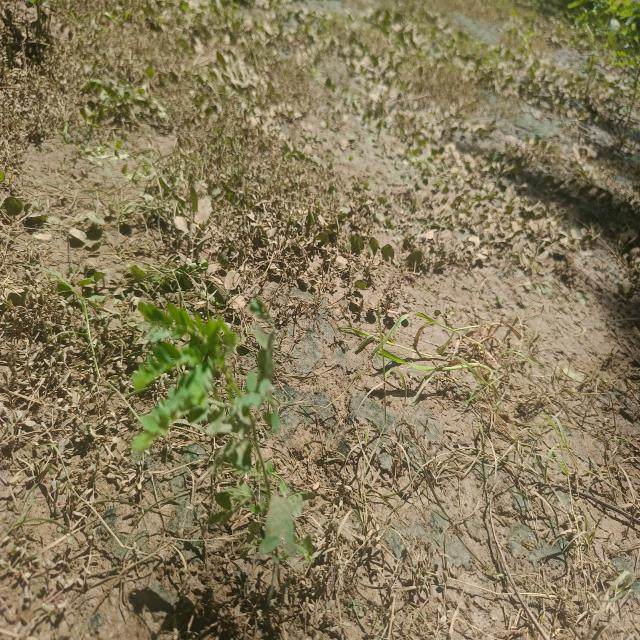weed: (122, 307, 315, 572)
